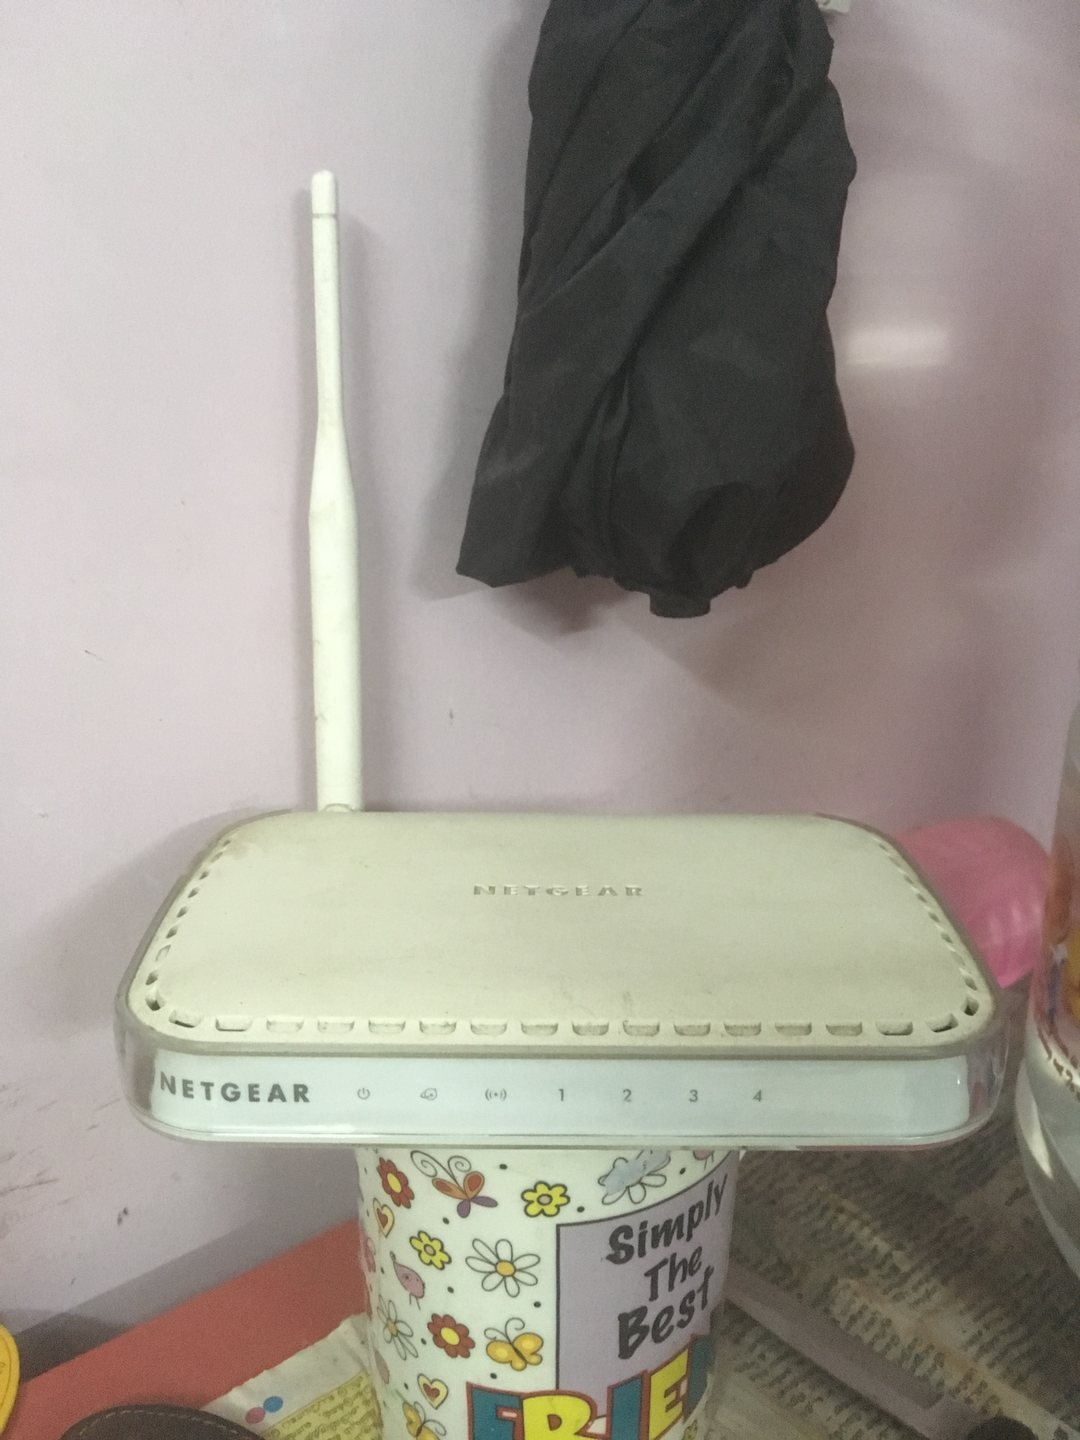NETGEAR: (147, 1065, 318, 1112)
modem: (107, 1001, 1020, 1147)
